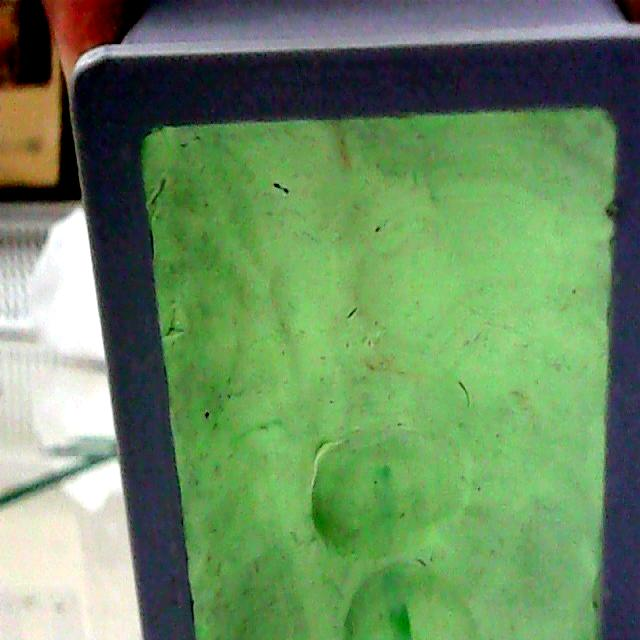block: (78, 19, 634, 628)
